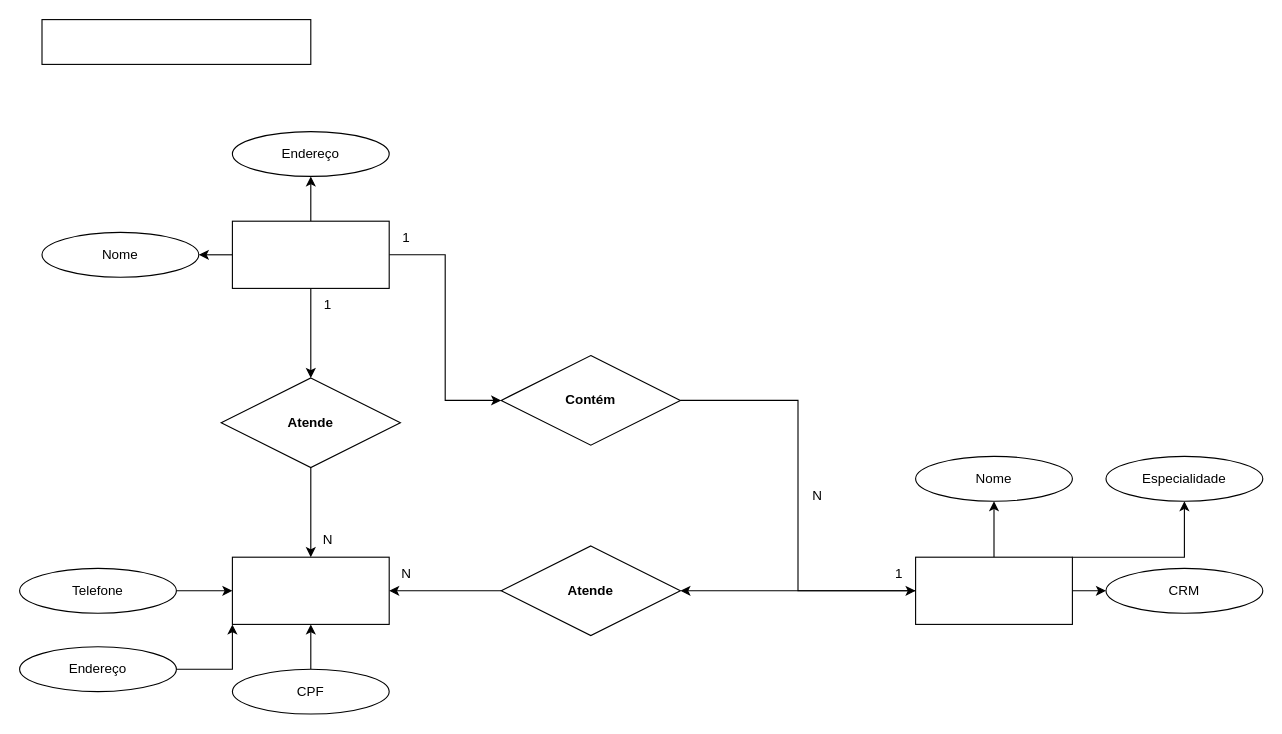
The diagram is 1282 pixels wide and 734 high, and some of its shapes have lost their labels. The shapes that lost their labels are listed below. From the top down, each one's centre as x and y in pixels, then its label:
At (x=176, y=41): "DER - CLÍNICA".
At (x=310, y=254): "Clinica".
At (x=310, y=590): "Pacientes".
At (x=993, y=590): "Médicos".
